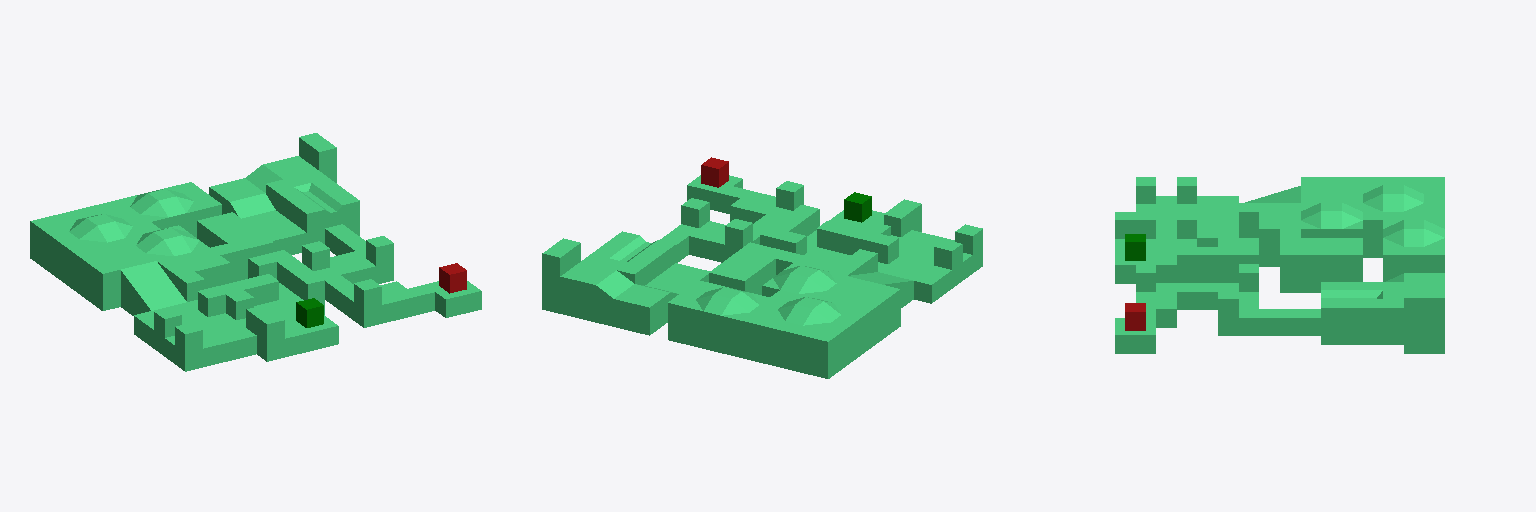
The model's file is Level01.obj.
3 views of the same model, side by side, from view 1: azimuth 30°, elevation 25°; view 2: azimuth 150°, elevation 25°; view 3: azimuth 270°, elevation 25° (orthographic).
Visible parts, largest first — view 1: Level01, Level01_Start, Level01_End; view 2: Level01, Level01_Start, Level01_End; view 3: Level01, Level01_End, Level01_Start.
Boxes of the visible parts, x1,y1,x2,y2 form: Level01: [30, 133, 481, 371]; Level01_Start: [296, 298, 323, 327]; Level01_End: [439, 263, 466, 293]; Level01: [542, 175, 982, 378]; Level01_Start: [844, 192, 871, 222]; Level01_End: [701, 157, 728, 187]; Level01: [1115, 177, 1444, 353]; Level01_End: [1125, 303, 1145, 330]; Level01_Start: [1125, 234, 1145, 260].
Size of the model in its own units: 51.2 by 9.6 by 51.2.